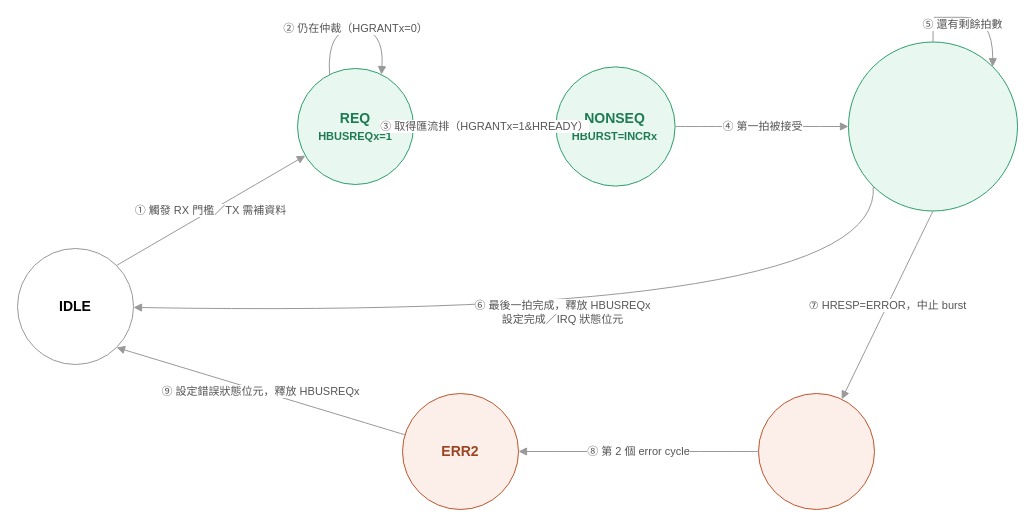
Image size: 1035x528. Some labels were removed from this diagram. The shapes that lost their labels are listed below. From the top down, each one's centre as x and y in pixels, then its label:
At pixel 933 126: "SEQ burst 傳輸中（含 BUSY 插拍）".
At pixel 816 451: "ERR1".
